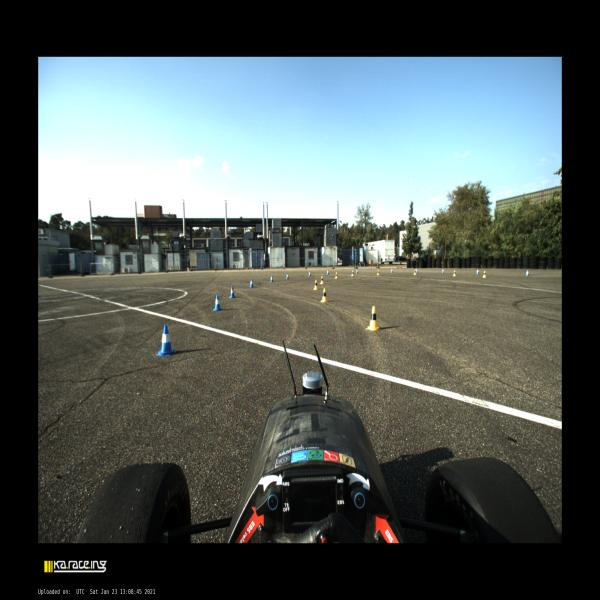blue_cone: (156, 324, 176, 356), (214, 295, 222, 311), (229, 286, 236, 298), (249, 278, 254, 288), (270, 275, 274, 282), (526, 270, 529, 276), (286, 273, 289, 279), (476, 269, 479, 274), (308, 271, 311, 276), (356, 268, 358, 274), (327, 269, 329, 275), (442, 268, 444, 273), (416, 268, 418, 273), (391, 268, 393, 273)
yellow_cone: (366, 306, 380, 330), (321, 288, 327, 302), (314, 280, 318, 290), (320, 276, 324, 284), (483, 270, 486, 278), (413, 268, 416, 275), (335, 272, 338, 279), (453, 270, 456, 276), (351, 270, 354, 276), (377, 270, 379, 275)
